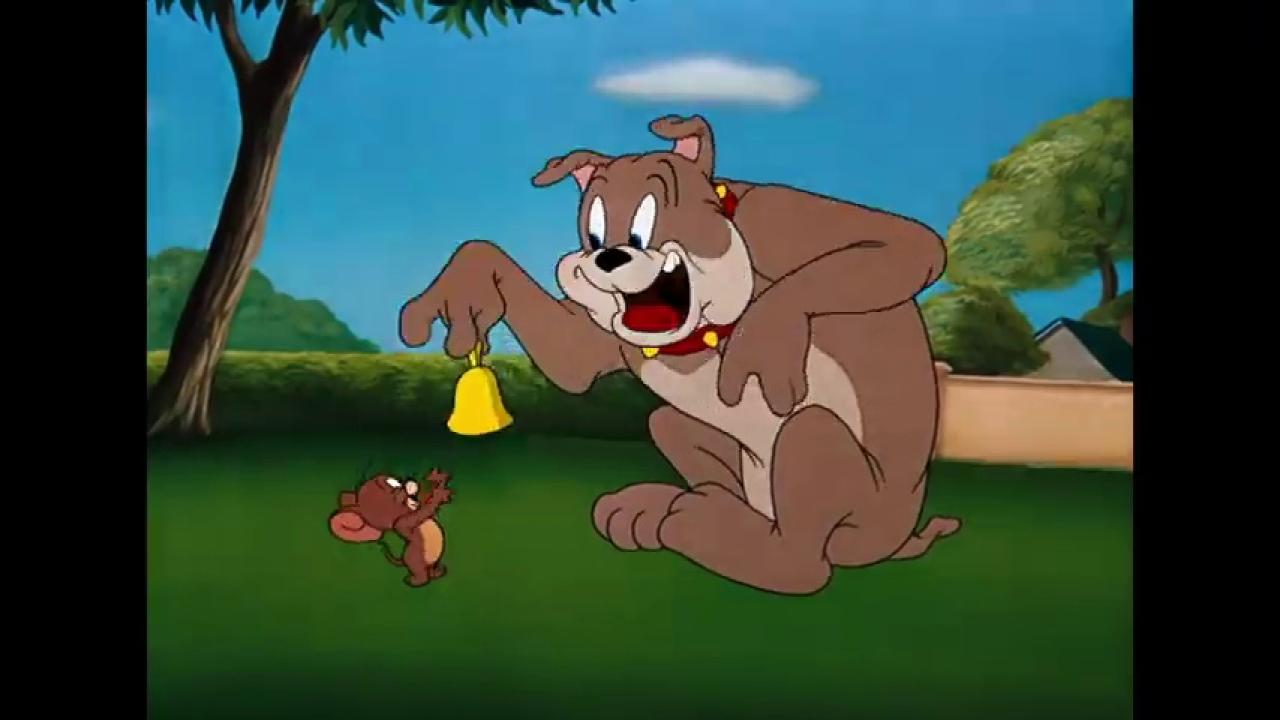Jerry: (328, 461, 459, 592)
